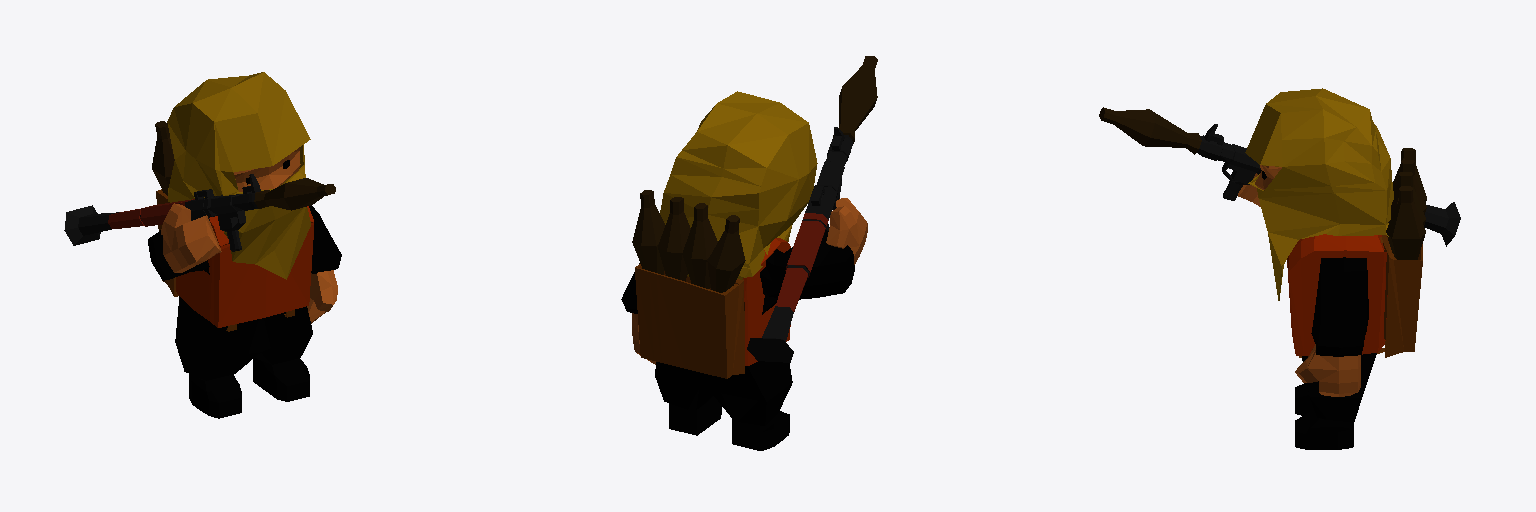
Rendered from terrorist4.obj.
The picture shows the model from 3 angles: view 1: azimuth 30°, elevation 25°; view 2: azimuth 150°, elevation 25°; view 3: azimuth 270°, elevation 25°; orthographic projection.
Visible parts, largest first — view 1: Cube.029_Cube.3247; view 2: Cube.029_Cube.3247; view 3: Cube.029_Cube.3247.
Boxes of the visible parts, x1=… form: Cube.029_Cube.3247: x1=64, y1=72, x2=341, y2=418; Cube.029_Cube.3247: x1=621, y1=56, x2=877, y2=450; Cube.029_Cube.3247: x1=1099, y1=88, x2=1460, y2=449.
Size of the model in its own units: 0.5688 by 0.8046 by 0.8193.